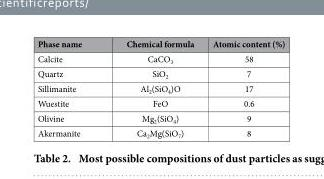table: (36, 37, 284, 139)
table column: (103, 37, 202, 139), (202, 37, 284, 139), (36, 37, 103, 139)
table column header: (36, 37, 284, 50)
table row: (36, 50, 284, 66), (36, 66, 284, 81), (36, 95, 284, 110), (36, 110, 284, 125), (36, 81, 284, 95), (36, 125, 284, 139), (36, 37, 284, 50)
